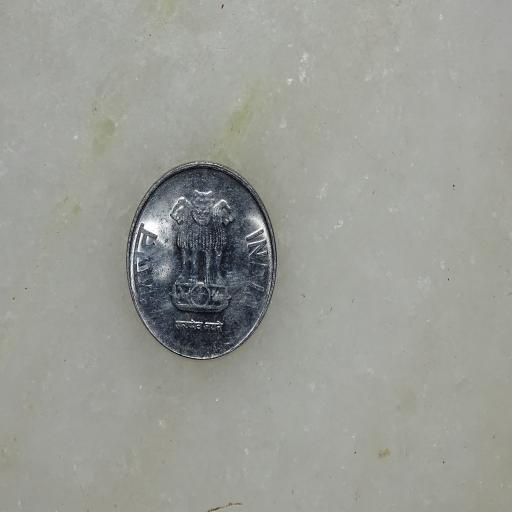rupee2: (123, 162, 285, 368)
